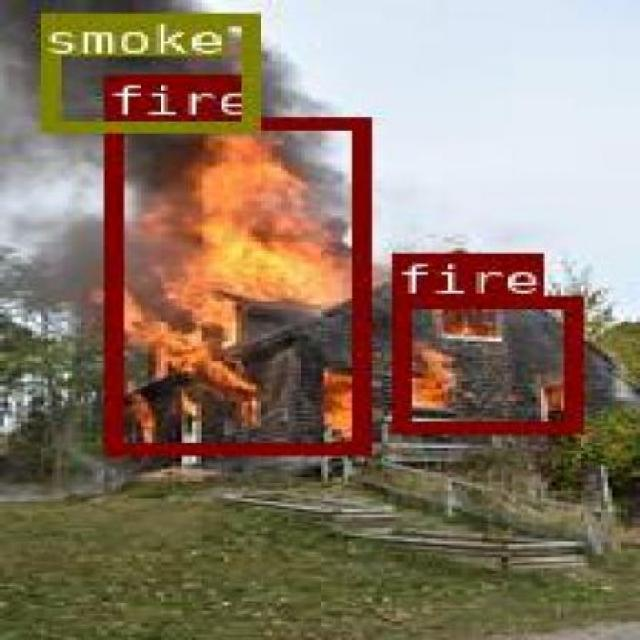Fire: (100, 115, 366, 452), (388, 296, 578, 430)
Smoke: (36, 10, 253, 130)
